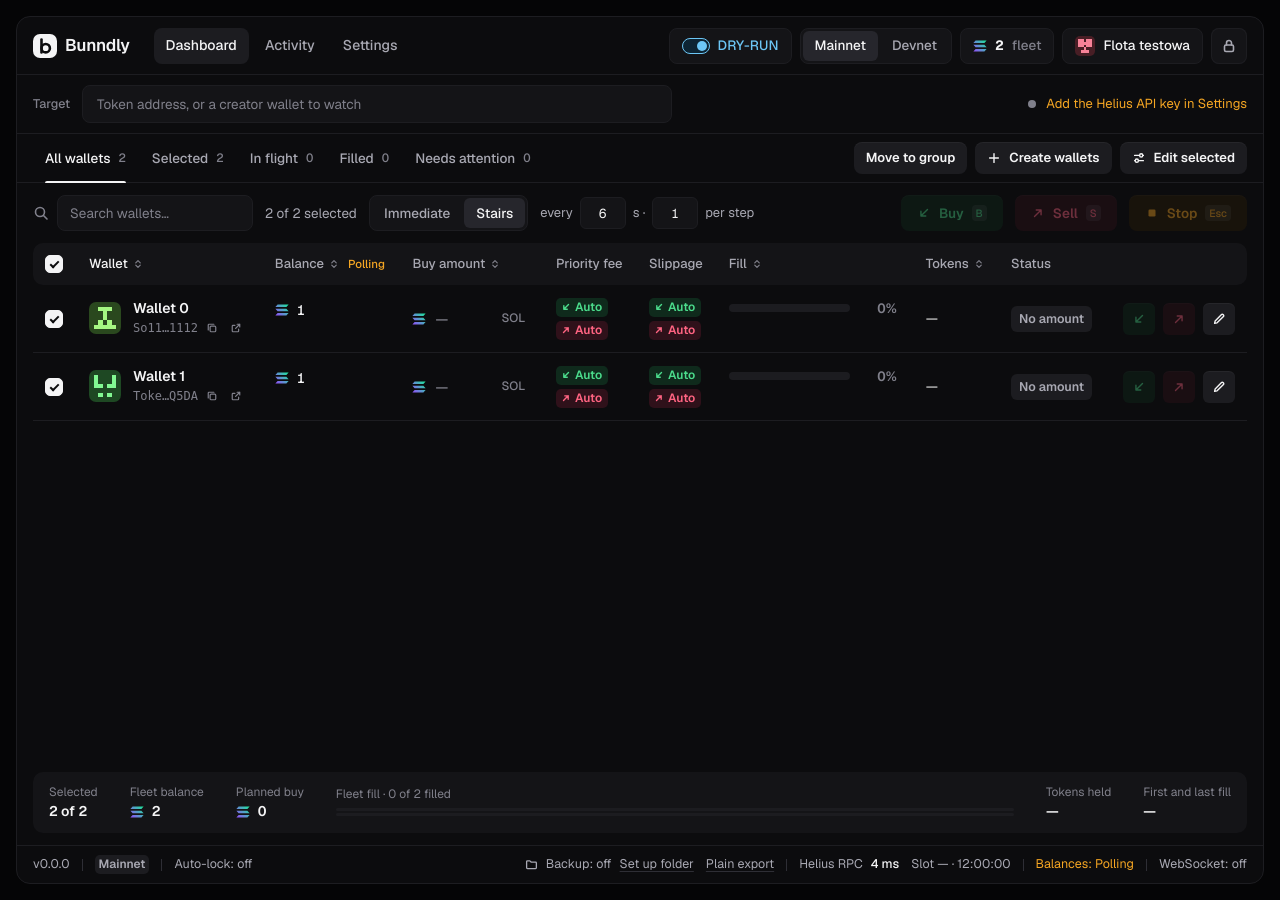
Test: wallet cell › a refused clipboard is an error on the screen, not a toast
This screenshot has width=1280, height=900.
Click the button named "Copy address Wallet 0" at (212, 328), box [202,318,222,338]
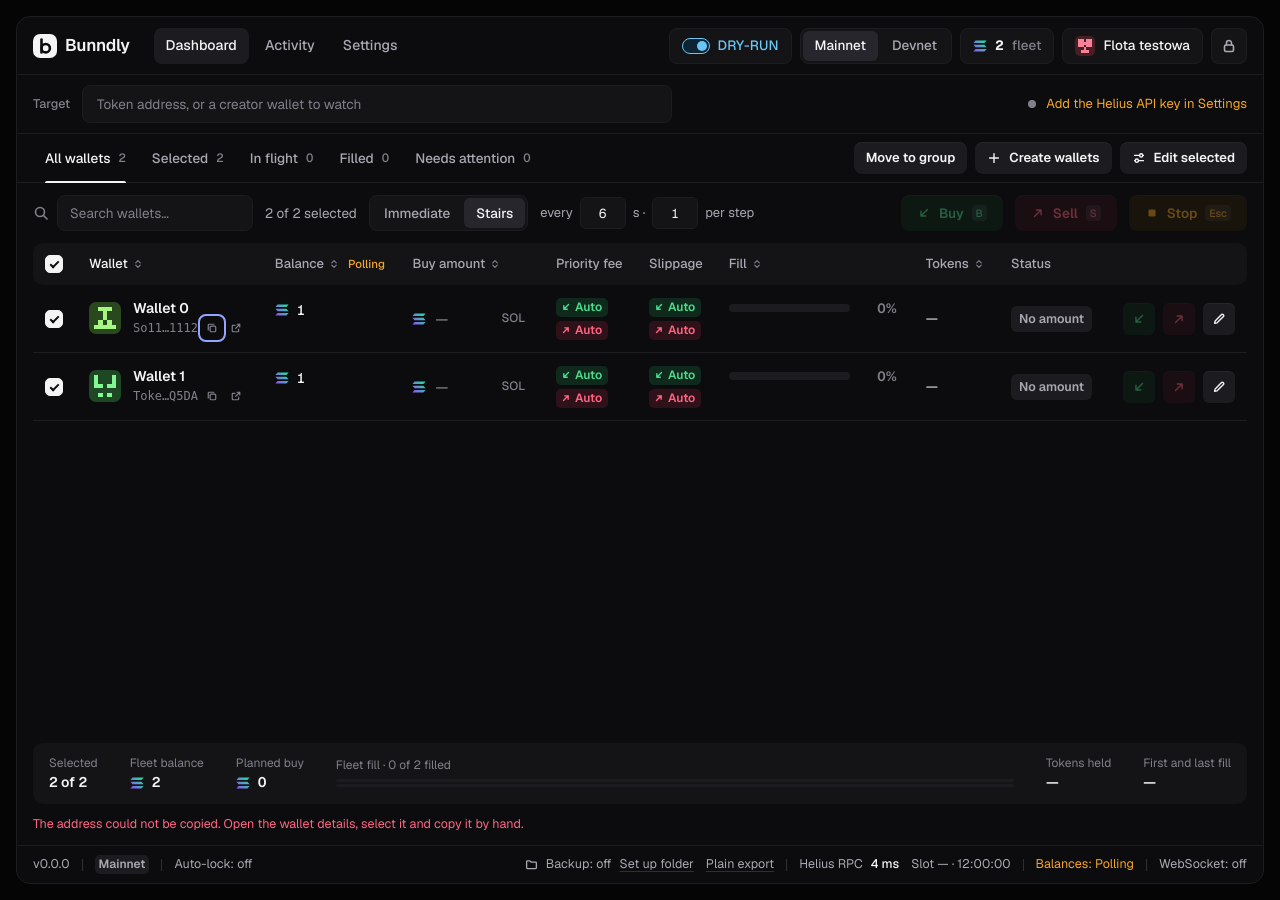
Expected: the 2nd message shows "The address could not be copied.", [33,815,523,832]
